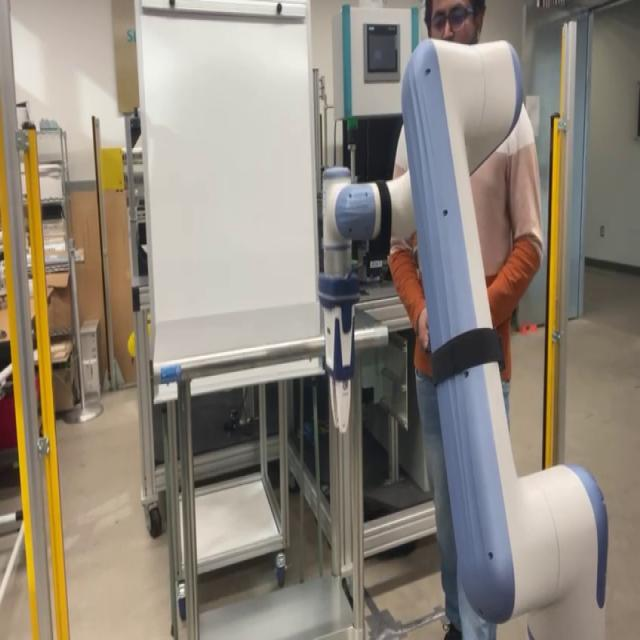human: (387, 0, 543, 637)
robot: (313, 32, 614, 640)
